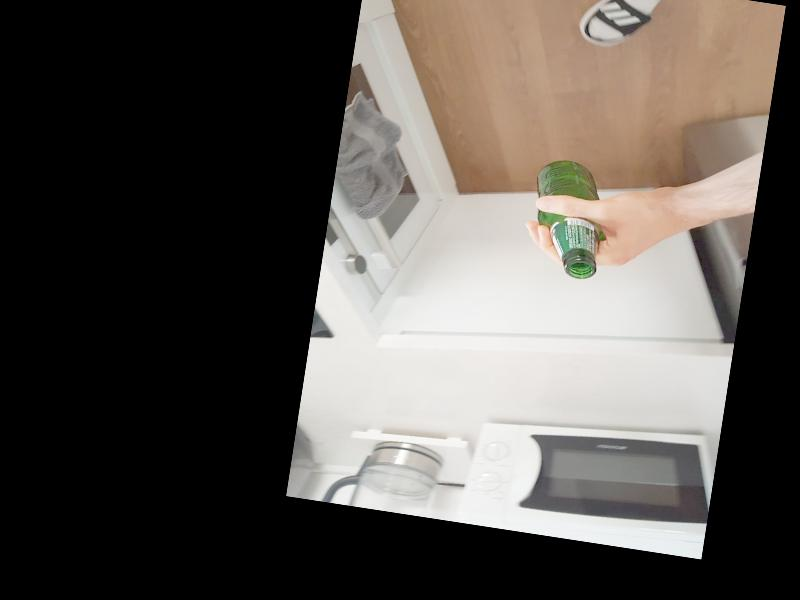Beer: (523, 156, 612, 279)
